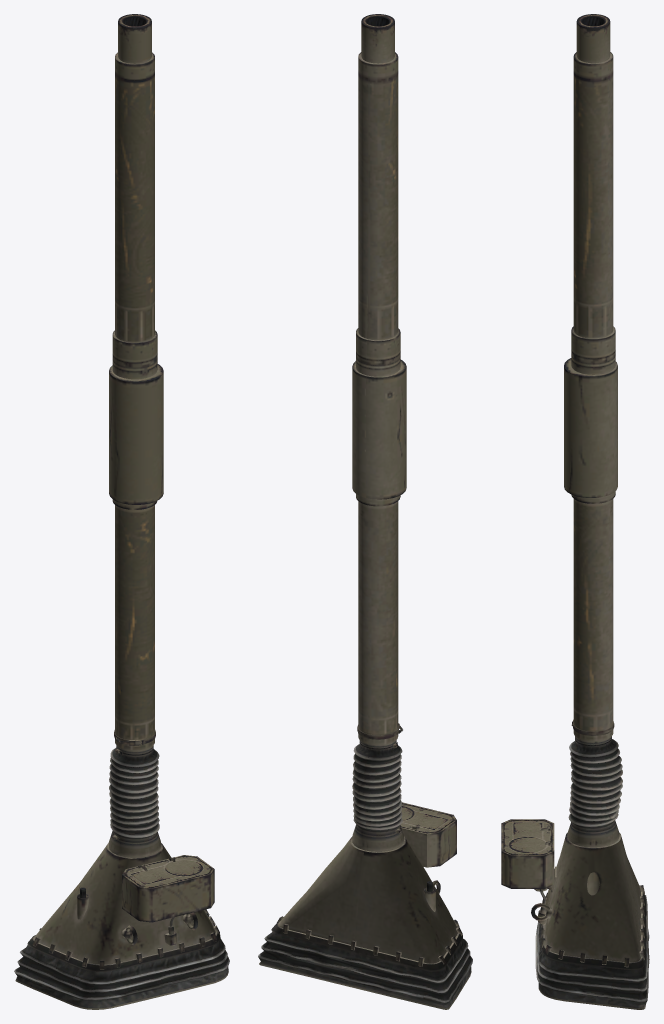
Rendered from Gun_01.glb.
3 renders of one model, left to right at view 1: azimuth 30°, elevation 25°; view 2: azimuth 150°, elevation 25°; view 3: azimuth 270°, elevation 25°, orthographic.
Parts seen in each view (by area): view 1: set_0_group_0; view 2: set_0_group_0; view 3: set_0_group_0.
Boxes of the visible parts, left/top/right/bottom form: set_0_group_0: left=14, top=14, right=229, bottom=1009; set_0_group_0: left=258, top=14, right=472, bottom=1009; set_0_group_0: left=501, top=14, right=649, bottom=1009.
Size of the model in its own units: 1.01 by 4.82 by 0.6865.
Materials: 1 (1 with a texture image).
